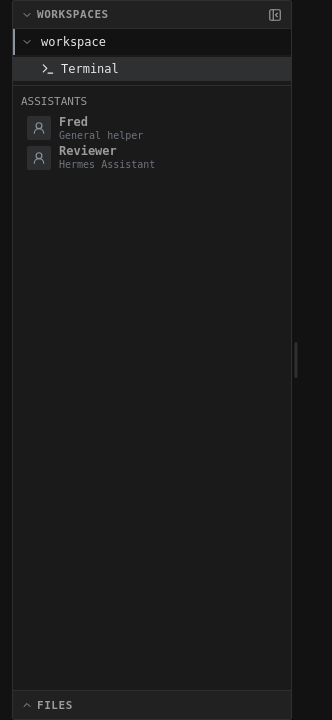
Scenario: an opened Assistant stays reachable (marked offline) when the service disappears
Click the button "Fred General helper" at x=101, y=135, box left=21, top=114, right=283, bottom=142
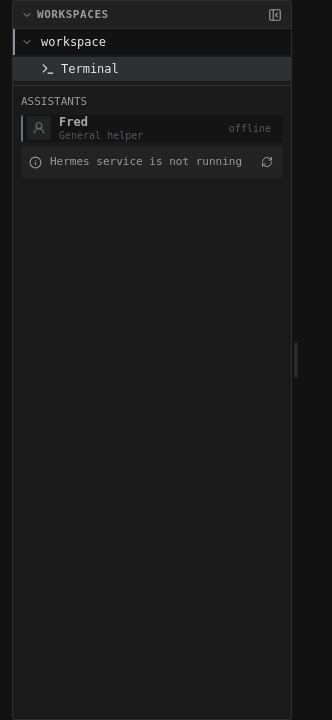
Check: the text "Hermes service is not running" is shown, box left=50, top=154, right=247, bottom=170
Check: the button "Reviewer" is gone
